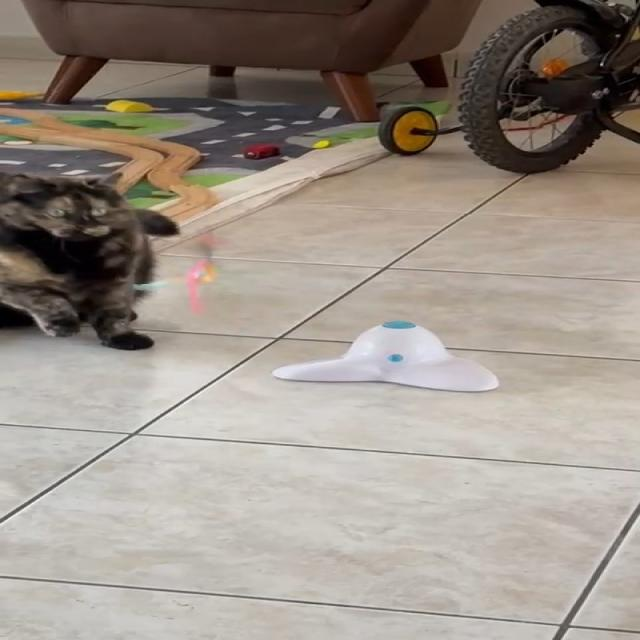authorized: (0, 170, 180, 350)
